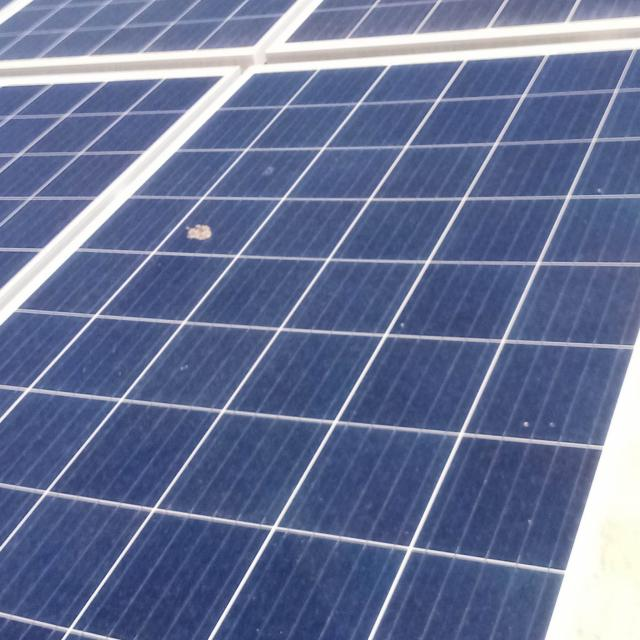faulty: (0, 44, 638, 640)
